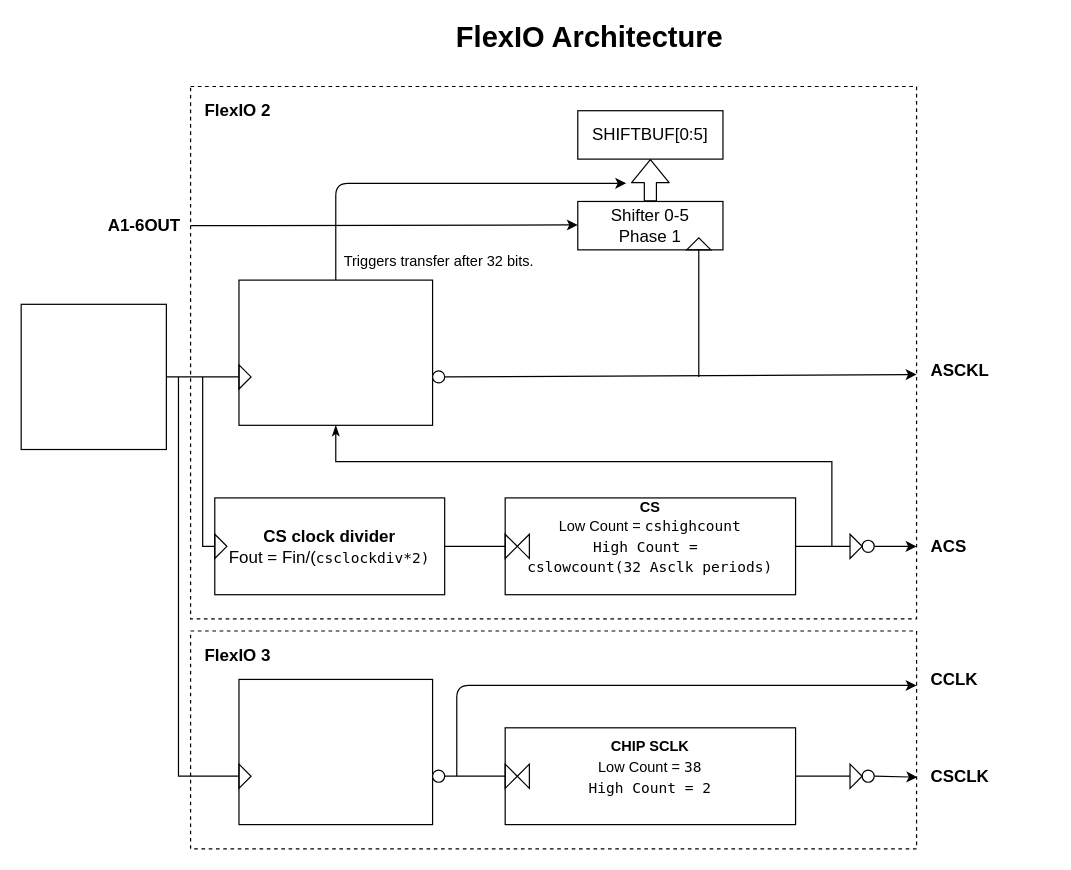
Image size: 1071x870. Some labels were removed from this diagram. The box of each missing label's shape, as (x1, y1, x2, y2) in pixels:
Asclk Fout = 20MHz 32 bit shift. Enables on CS Low on reset.: (238, 279, 433, 425)
CHIP CLK Fout = ACS freq * 2: (238, 678, 433, 825)
FLEXIO2/3 Core Clock 240MHz: (20, 303, 166, 450)
